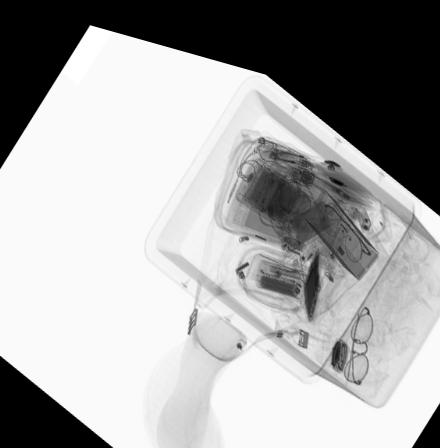Lighter: (257, 143, 288, 163)
